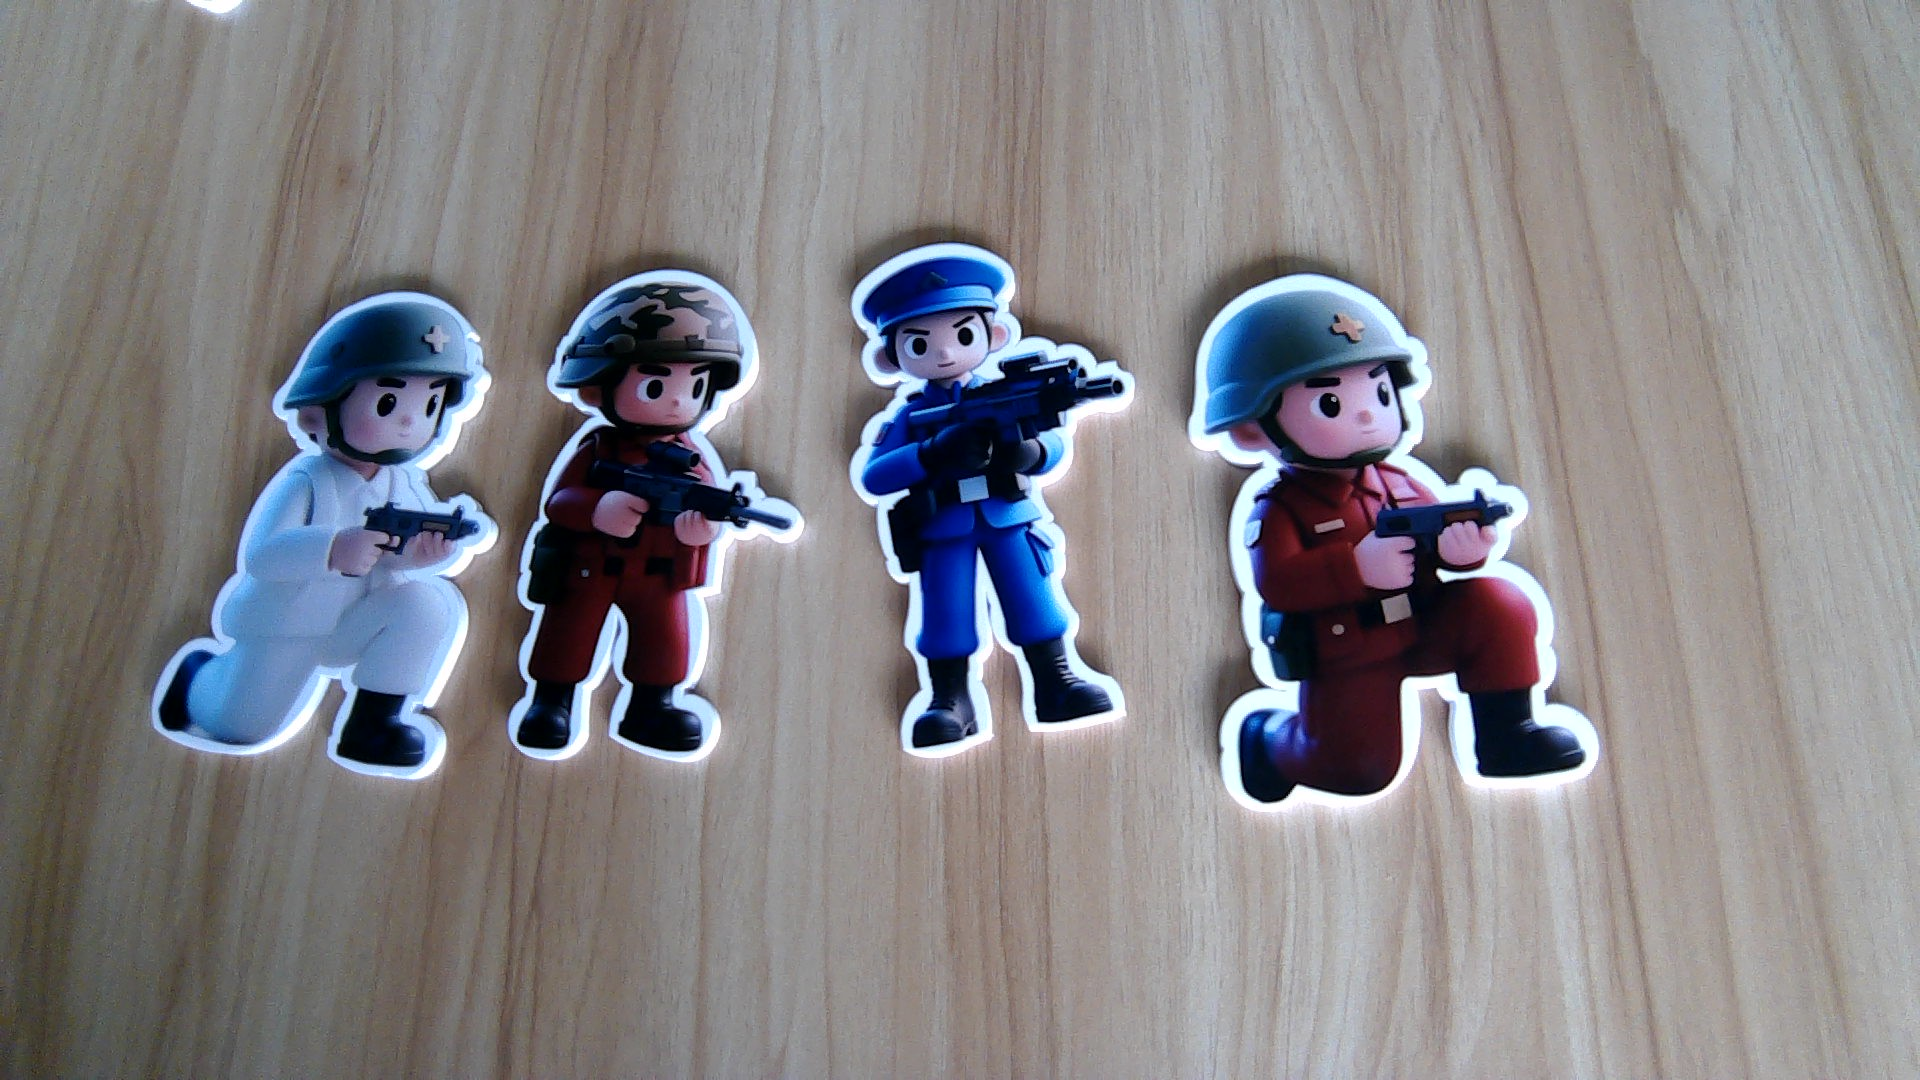人质: (142, 459, 491, 804)
敌人1: (1205, 480, 1615, 814), (502, 426, 794, 765)
敌人2: (845, 381, 1133, 762)
